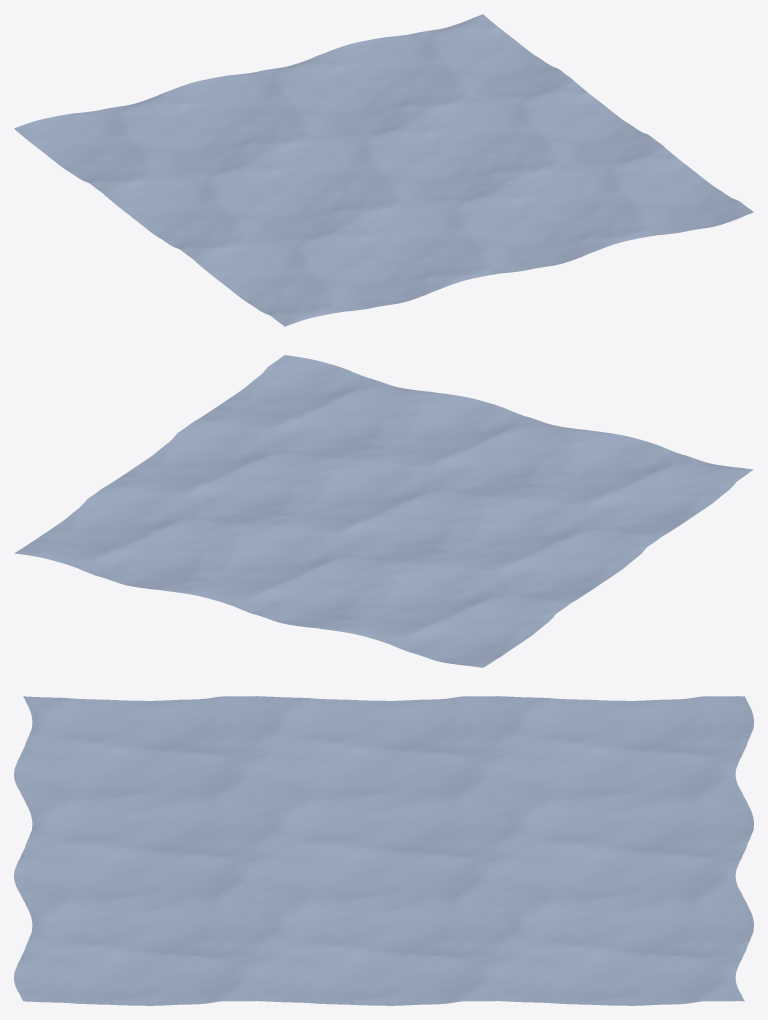
Rendered from hai-.obj.
3 views of the same model, one above another, from view 1: azimuth 30°, elevation 25°; view 2: azimuth 150°, elevation 25°; view 3: azimuth 270°, elevation 25° (orthographic). The views are drawn at different scales.
Parts seen in each view (by area): view 1: 海; view 2: 海; view 3: 海.
Part boxes in pixels (<box>): 海: <box>14,14,753,326</box>; 海: <box>14,355,753,667</box>; 海: <box>14,696,753,1005</box>.
Bounding box in the file's own units: 151 × 1.42 × 154.
